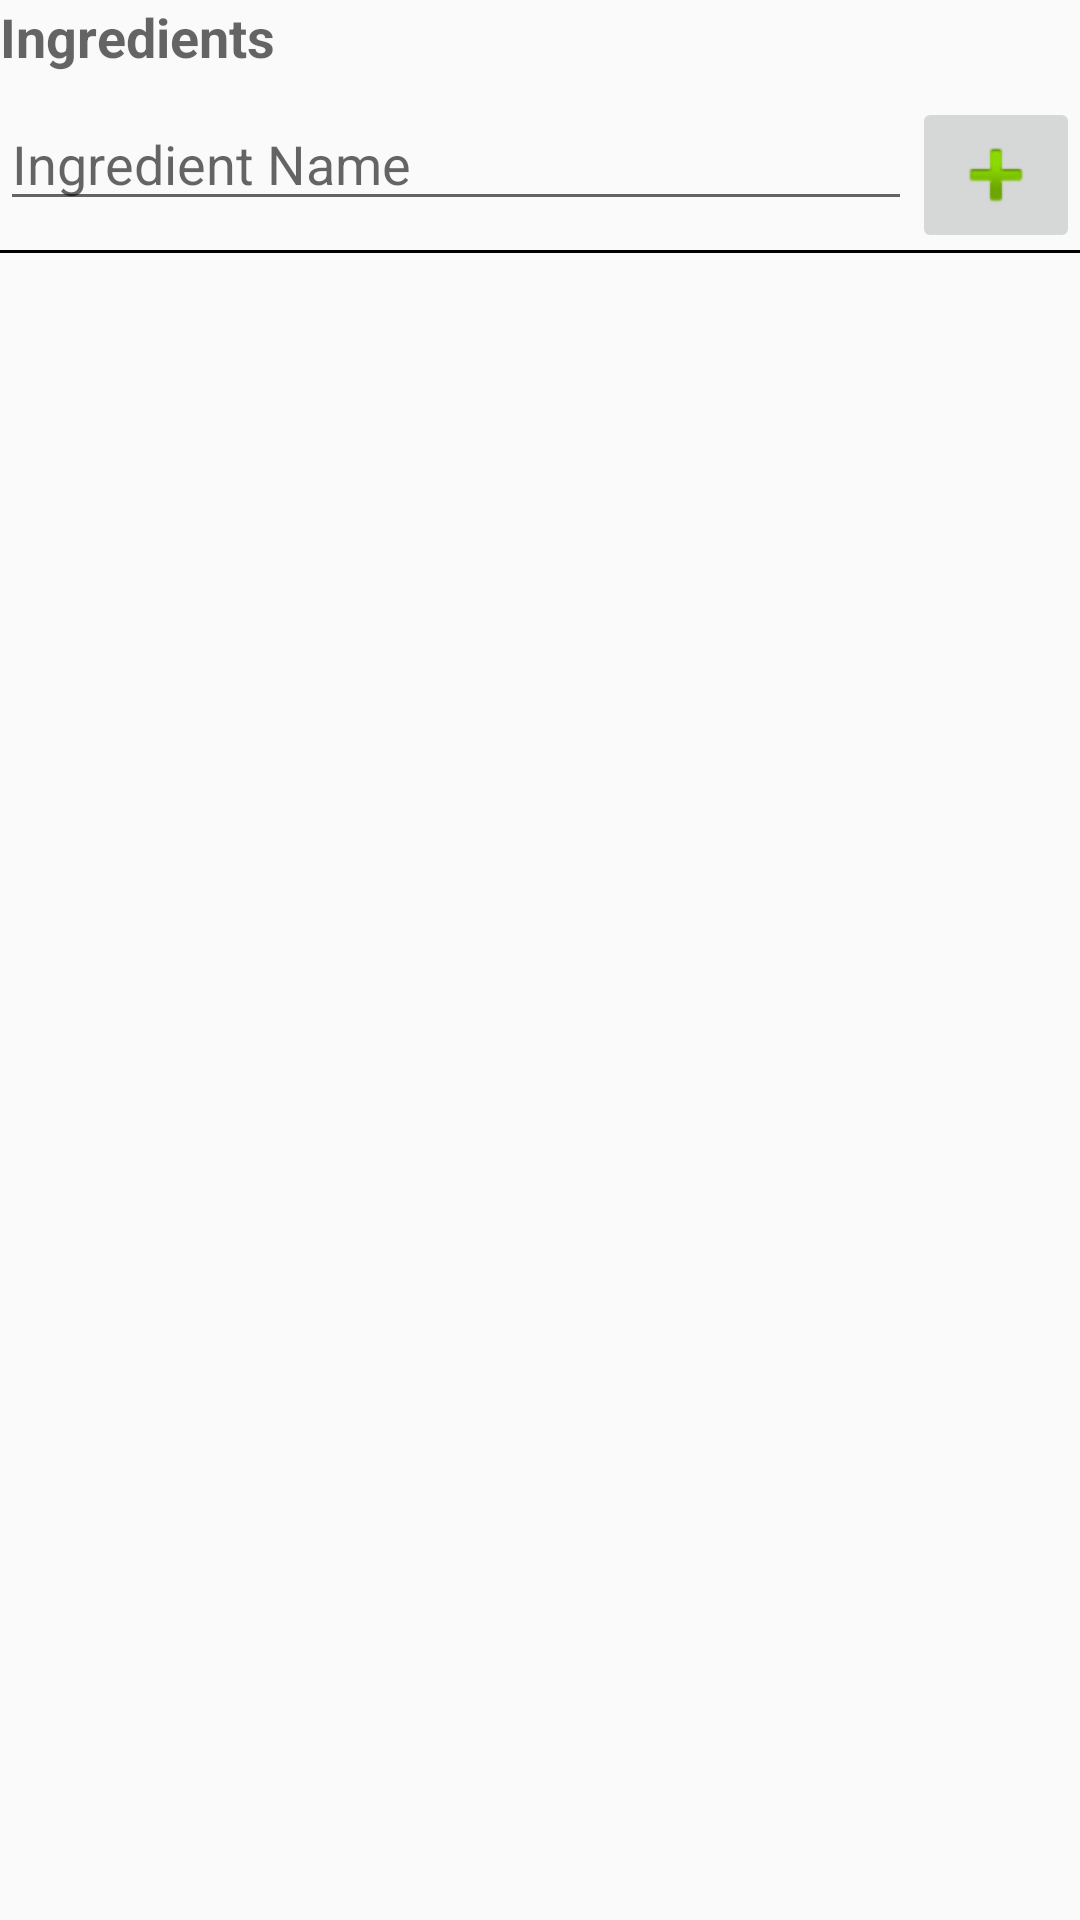

Point at icon controls on the screen. Image size 1080*1920, points as point (x, y).
Add Entry: point (996, 175)
